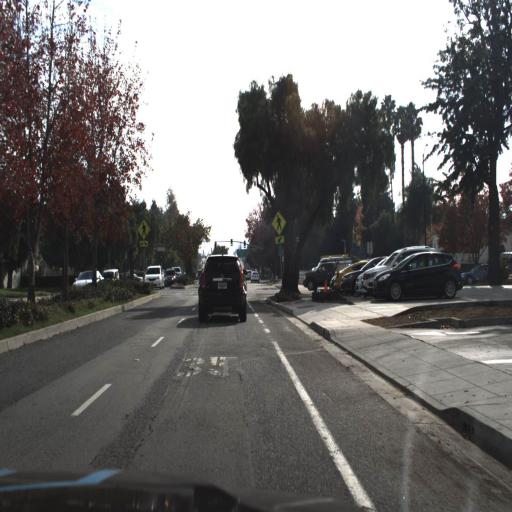car: (372, 246, 464, 300), (194, 250, 249, 327), (340, 254, 386, 294), (357, 252, 403, 292), (333, 258, 372, 298), (67, 261, 104, 294), (70, 266, 104, 297), (55, 263, 84, 288), (146, 266, 164, 288), (162, 266, 177, 290)
